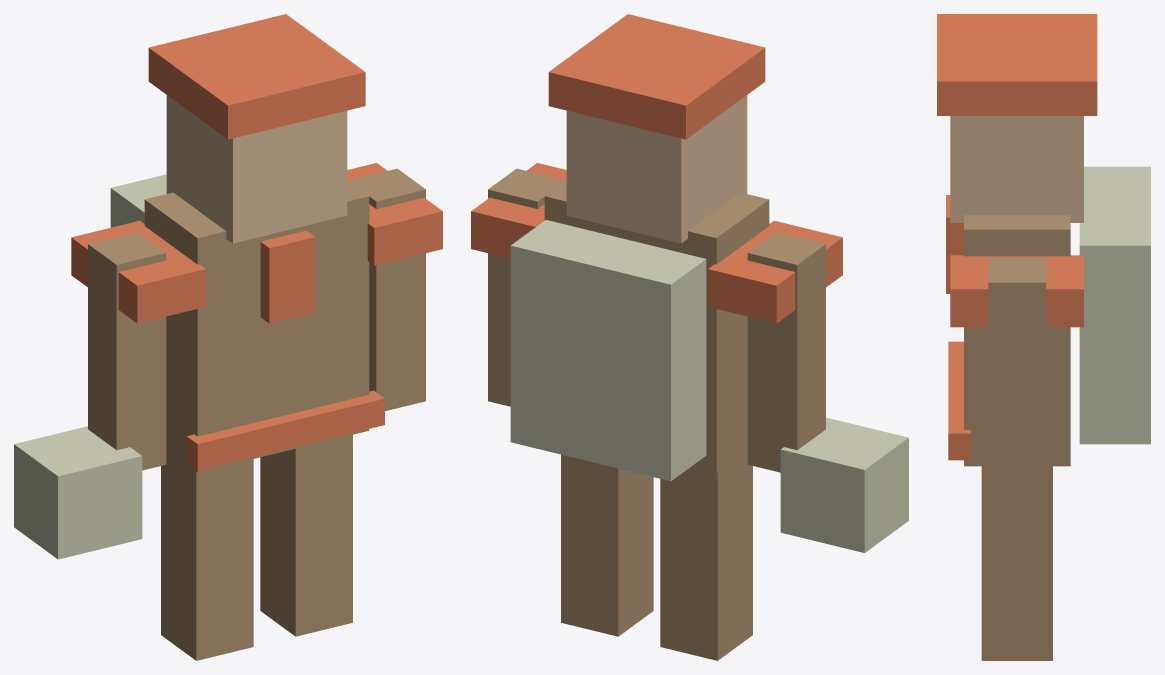
Rendered from 19_edda_chromabell_diver_from_server.glb.
3 renders of one model, left to right at view 1: azimuth 30°, elevation 25°; view 2: azimuth 150°, elevation 25°; view 3: azimuth 270°, elevation 25°, orthographic.
Visible parts, largest first — view 1: Edda Chromabell, Diver from Server; view 2: Edda Chromabell, Diver from Server; view 3: Edda Chromabell, Diver from Server.
Boxes of the visible parts, x1,y1,x2,y2 form: Edda Chromabell, Diver from Server: [14, 14, 442, 660]; Edda Chromabell, Diver from Server: [471, 14, 908, 660]; Edda Chromabell, Diver from Server: [937, 14, 1150, 660].
Bounding box in the file's own units: 1.03 × 1.47 × 0.4968.
